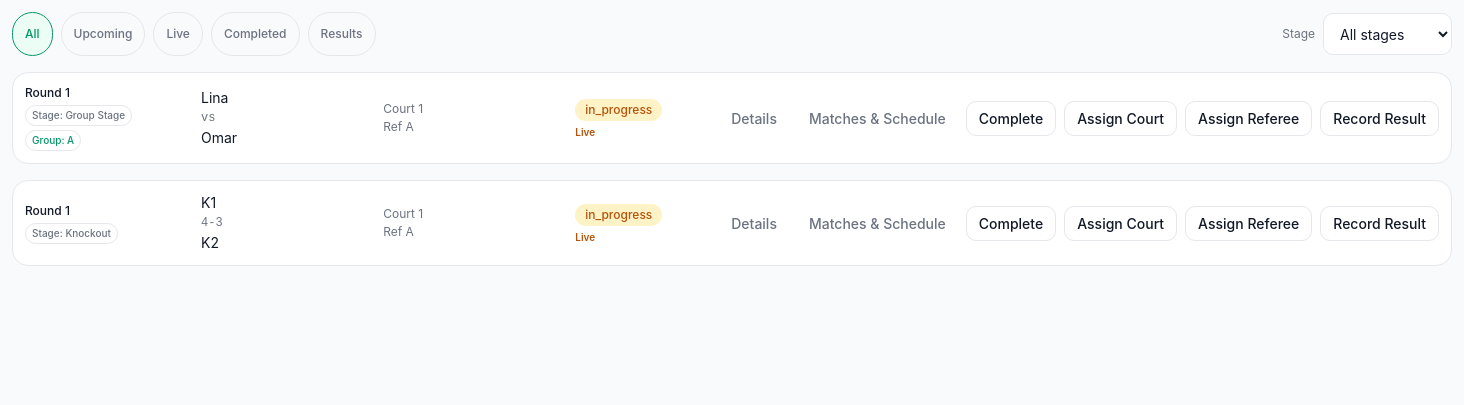
Tournament Hub Matches � Live segment (Step 3G) › renders in-progress matches under Live Now with status + stage/group context
The width and height of the screenshot is (1464, 405).
What coordinates should you click on to do the following:
click the button "Live"
I would click on:
 (178, 34)
Its box is left=153, top=12, right=203, bottom=56.
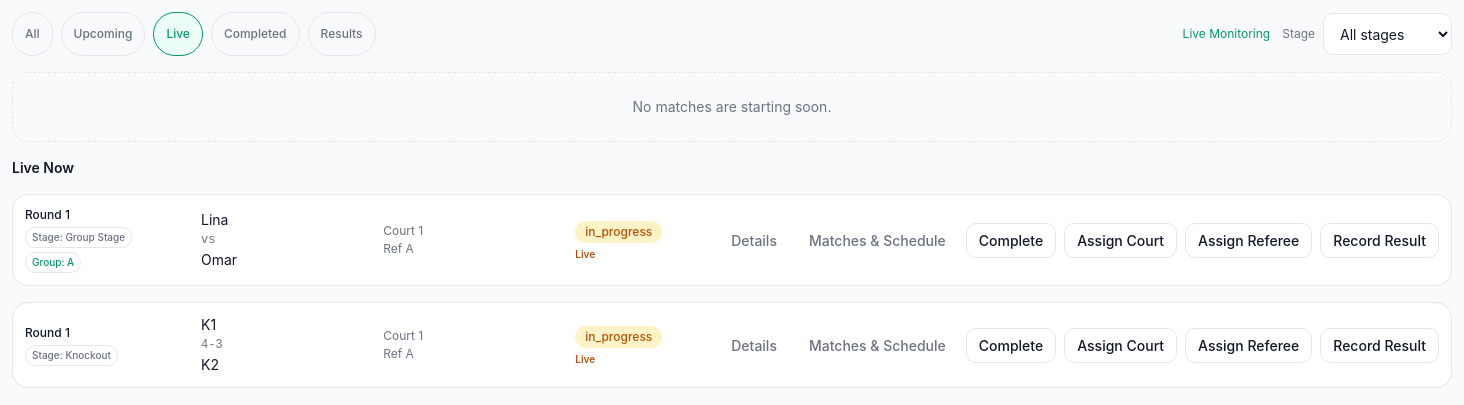
Expected: the text "Lina" is shown, left=201, top=211, right=228, bottom=228
Expected: the heading "Live Now" is shown, left=12, top=159, right=74, bottom=176
